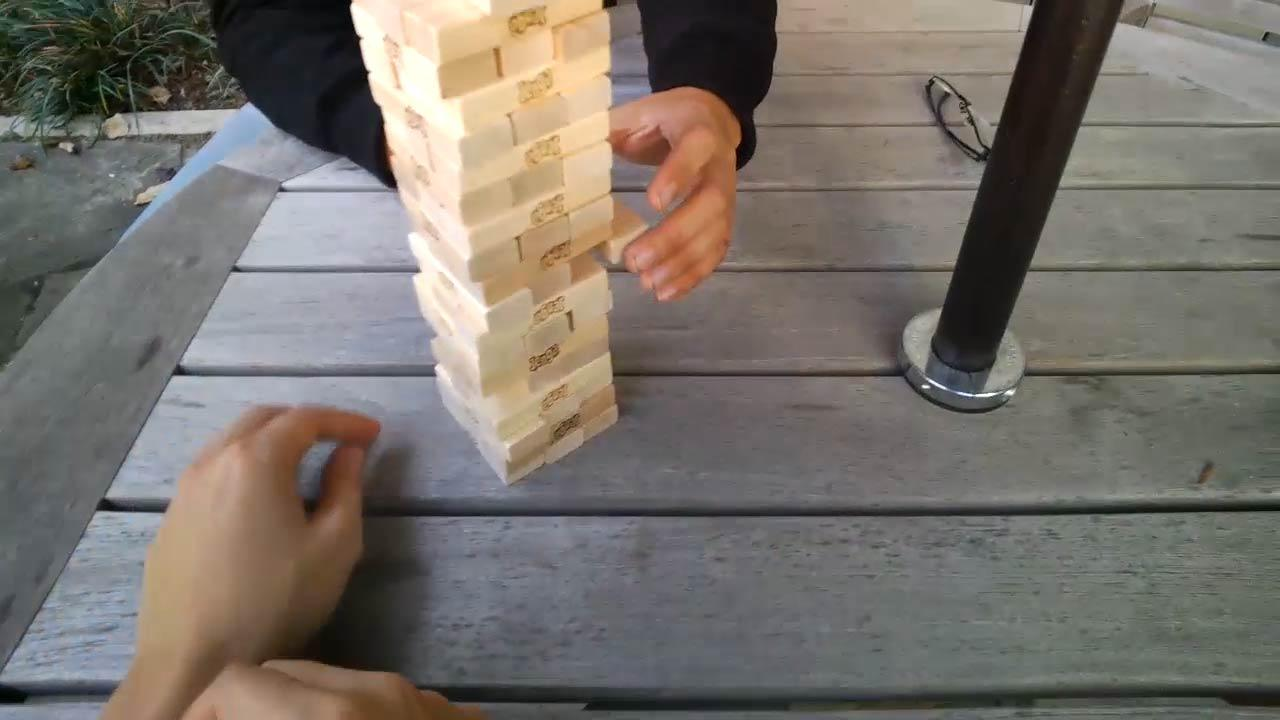hand: (143, 395, 381, 658), (615, 81, 744, 306), (171, 658, 466, 720)
